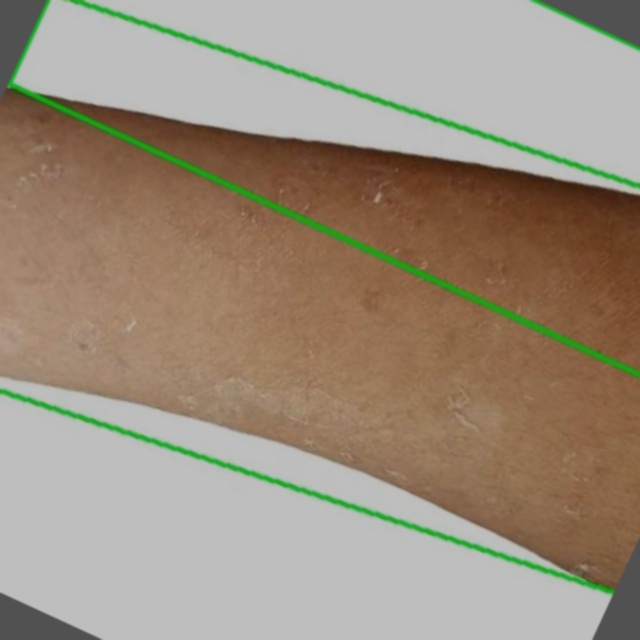Tinea Corporis: (0, 0, 639, 588), (9, 0, 639, 374)
